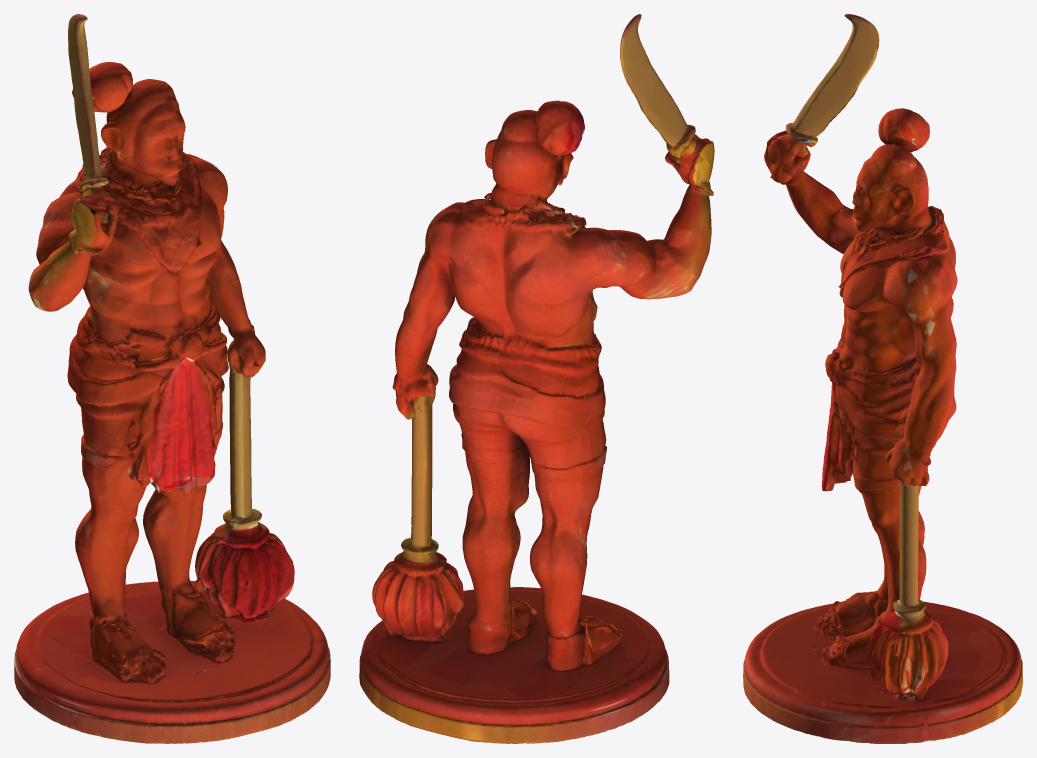
File: ayyanar_muni_god_3d_model_guardian_deity_statue.obj
The picture shows the model from 3 angles, left to right: view 1: azimuth 30°, elevation 25°; view 2: azimuth 150°, elevation 25°; view 3: azimuth 270°, elevation 25°; orthographic projection. The views are drawn at different scales.
Parts seen in each view (by area): view 1: obj1, obj2; view 2: obj1, obj2; view 3: obj1, obj2.
Boxes of the visible parts, x1,y1,x2,y2 form: obj1: (14,14,330,743); obj2: (14,16,330,741); obj1: (359,14,714,743); obj2: (359,14,714,743); obj1: (743,14,1022,742); obj2: (745,14,1022,743).
Bounding box in the file's own units: 0.9097 × 2 × 0.8148.
1 material, 1 textured.
